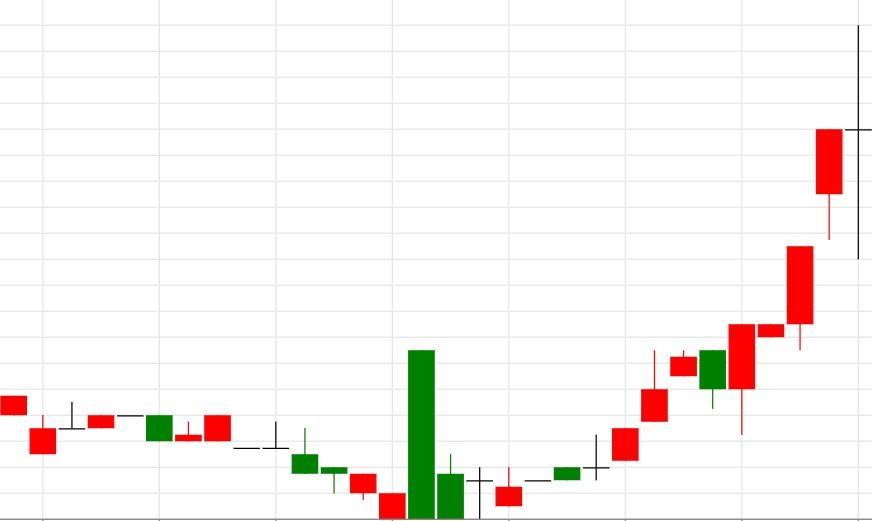bearish_engulfing_fall: (436, 349, 727, 519)
